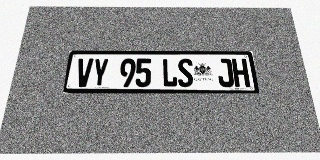5: (135, 58, 151, 87)
9: (119, 58, 136, 87)
H: (231, 59, 250, 87)
J: (216, 59, 234, 87)
L: (162, 59, 178, 87)
S: (177, 59, 194, 87)
V: (75, 58, 94, 87)
Y: (91, 58, 109, 87)
